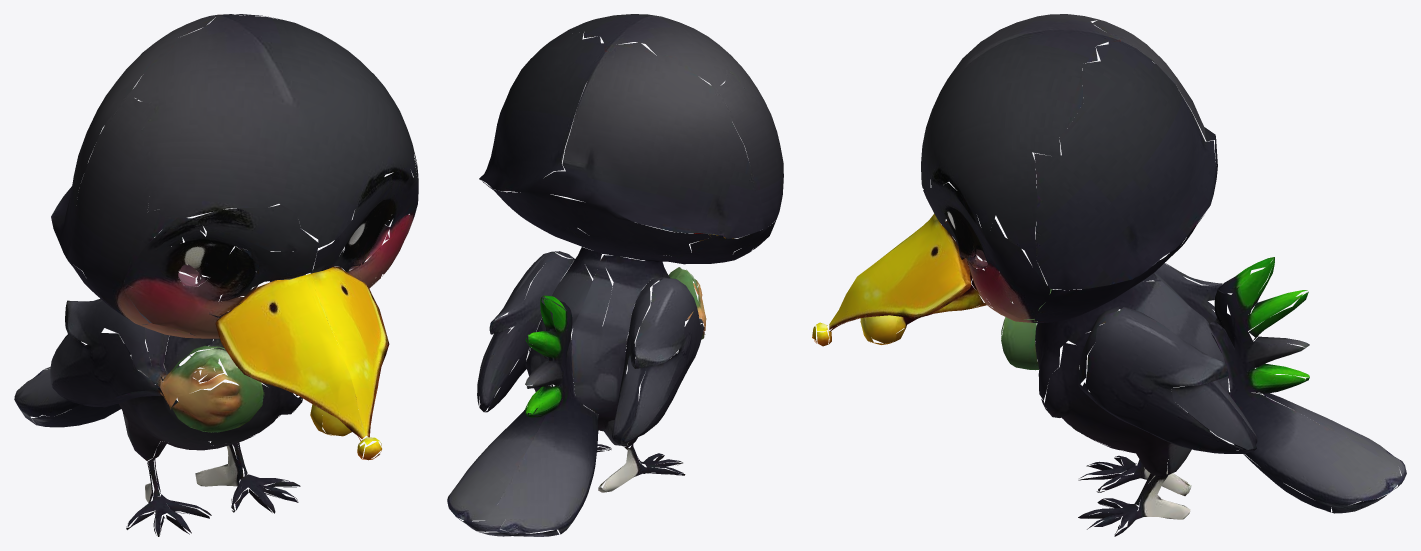
The model's file is kapkac_karga.glb.
3 renders of one model, left to right at view 1: azimuth 30°, elevation 25°; view 2: azimuth 150°, elevation 25°; view 3: azimuth 270°, elevation 25°, orthographic. The views are drawn at different scales.
Parts seen in each view (by area): view 1: geometry_0; view 2: geometry_0; view 3: geometry_0.
Part boxes in pixels (bbox=[...]): geometry_0: bbox=[14, 14, 418, 536]; geometry_0: bbox=[447, 14, 783, 536]; geometry_0: bbox=[812, 14, 1406, 536].
Bounding box in the file's own units: 0.5994 × 0.8881 × 1.
1 material, 1 textured.
